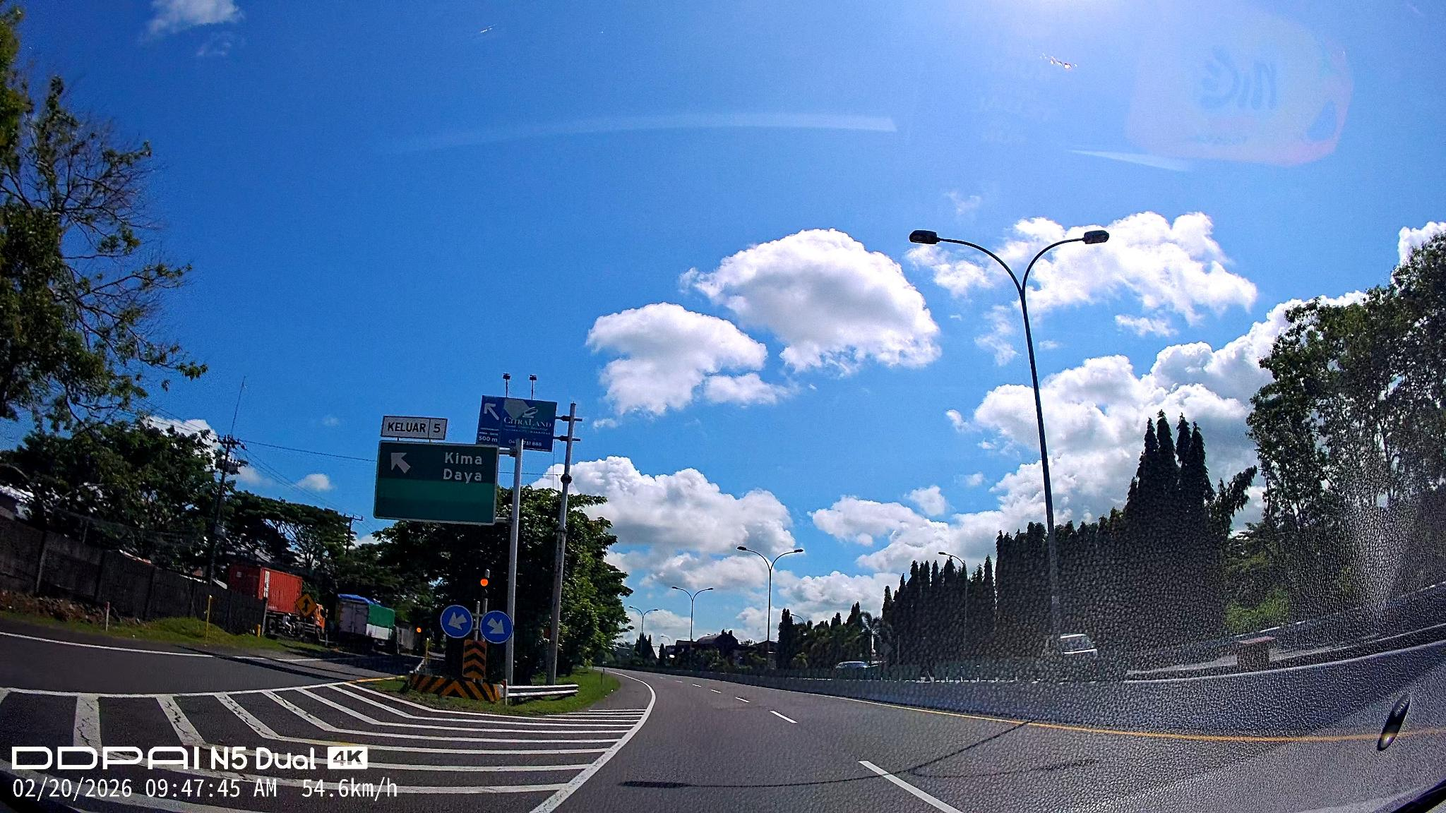rambu_teks: (373, 440, 501, 528)
